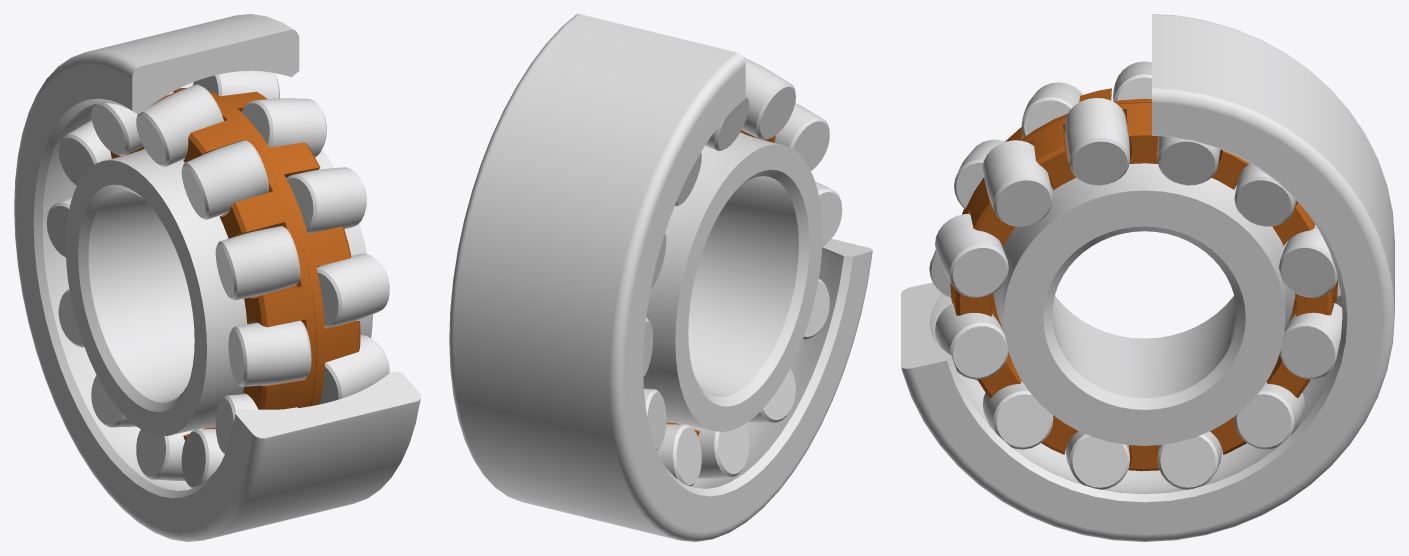
3 renders of one model, left to right at view 1: azimuth 30°, elevation 25°; view 2: azimuth 150°, elevation 25°; view 3: azimuth 270°, elevation 25°, orthographic. The views are drawn at different scales.
Parts seen in each view (by area): view 1: Circle042, Circle039, Circle040; view 2: Circle039, Circle040, Circle042; view 3: Circle039, Circle042, Circle040.
Part boxes in pixels (x1=…): Circle042: x1=46, y1=70, x2=389, y2=488; Circle039: x1=14, y1=14, x2=420, y2=541; Circle040: x1=65, y1=148, x2=372, y2=436; Circle039: x1=449, y1=14, x2=872, y2=541; Circle040: x1=643, y1=132, x2=822, y2=431; Circle042: x1=643, y1=57, x2=842, y2=486; Circle039: x1=901, y1=14, x2=1394, y2=541; Circle042: x1=929, y1=61, x2=1342, y2=489; Circle040: x1=993, y1=163, x2=1295, y2=445.
Size of the model in its own units: 2.72 by 7.09 by 7.
